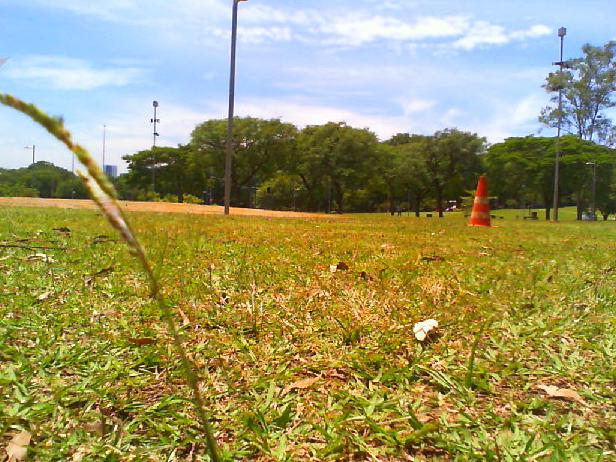0 cone: (468, 175, 498, 227)
